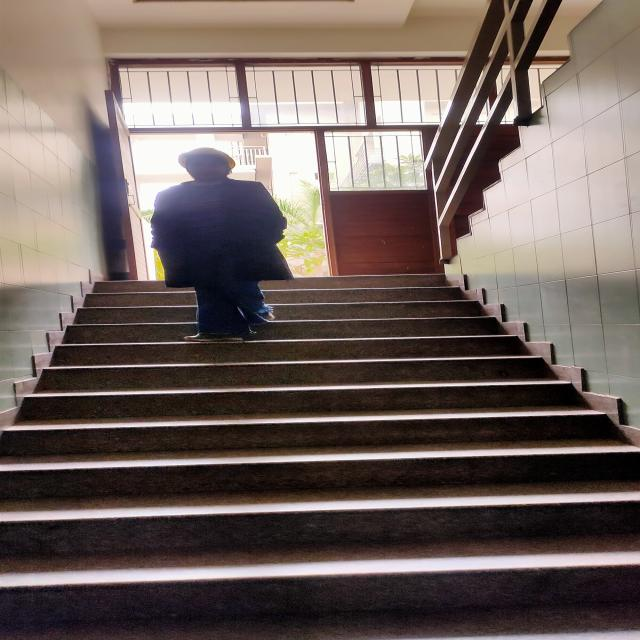no jacket: (150, 146, 288, 342)
